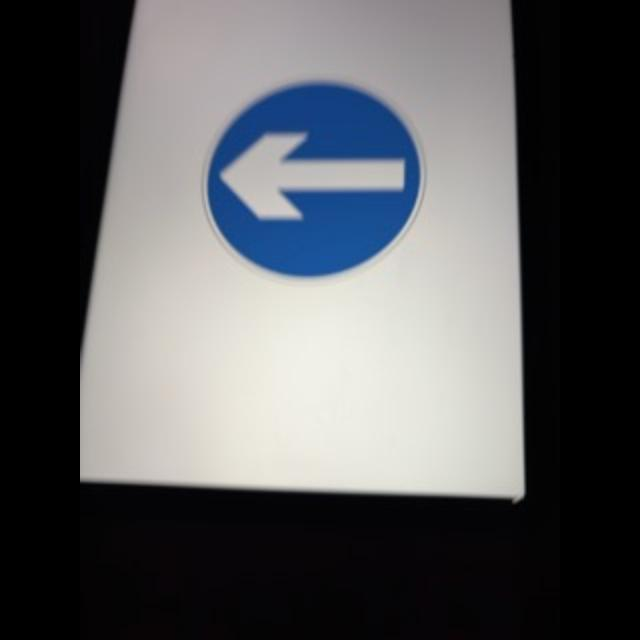TURN LEFT: (200, 78, 428, 282)
